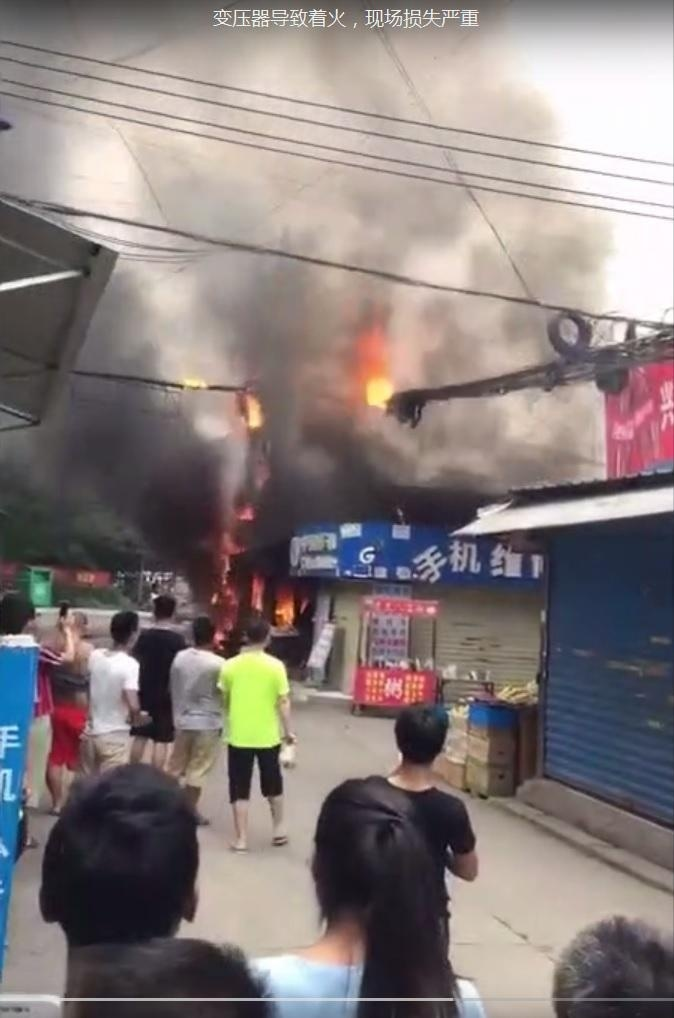fire: (202, 378, 299, 639), (353, 328, 398, 412)
